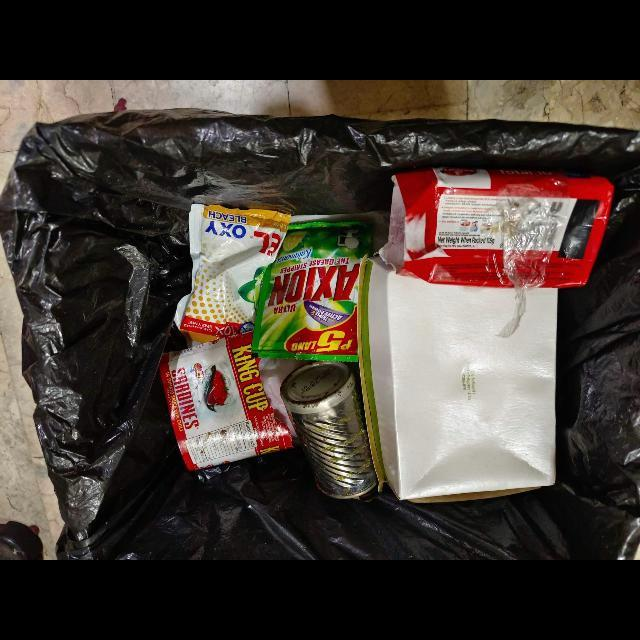aluminum: (280, 362, 379, 502)
cardboard: (356, 255, 558, 504)
paper: (379, 167, 616, 291), (158, 331, 297, 472)
plastic_sachet: (251, 220, 373, 363), (174, 204, 291, 344)
